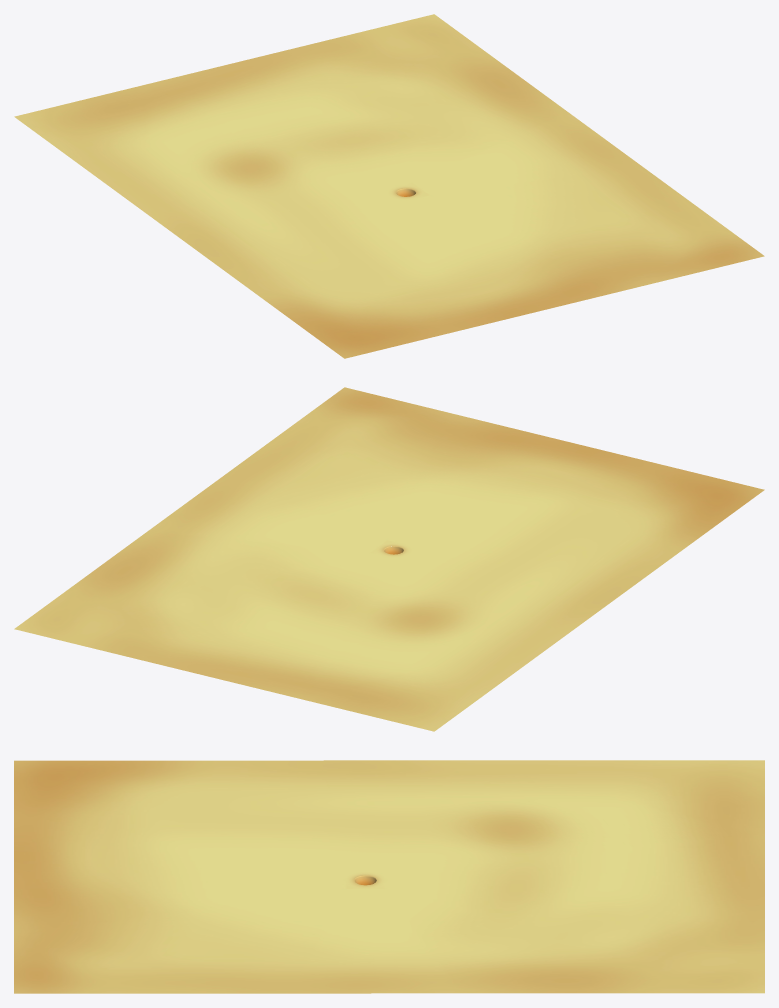
File: san1.fbx
The picture shows the model from 3 angles, top to bottom: view 1: azimuth 30°, elevation 25°; view 2: azimuth 150°, elevation 25°; view 3: azimuth 270°, elevation 25°; orthographic projection. The views are drawn at different scales.
Parts seen in each view (by area): view 1: san1; view 2: san1; view 3: san1.
Boxes of the visible parts, x1,y1,x2,y2 form: san1: [14, 14, 764, 358]; san1: [14, 387, 764, 731]; san1: [14, 760, 764, 993].
Size of the model in its own units: 1982 by 23.85 by 2700.
